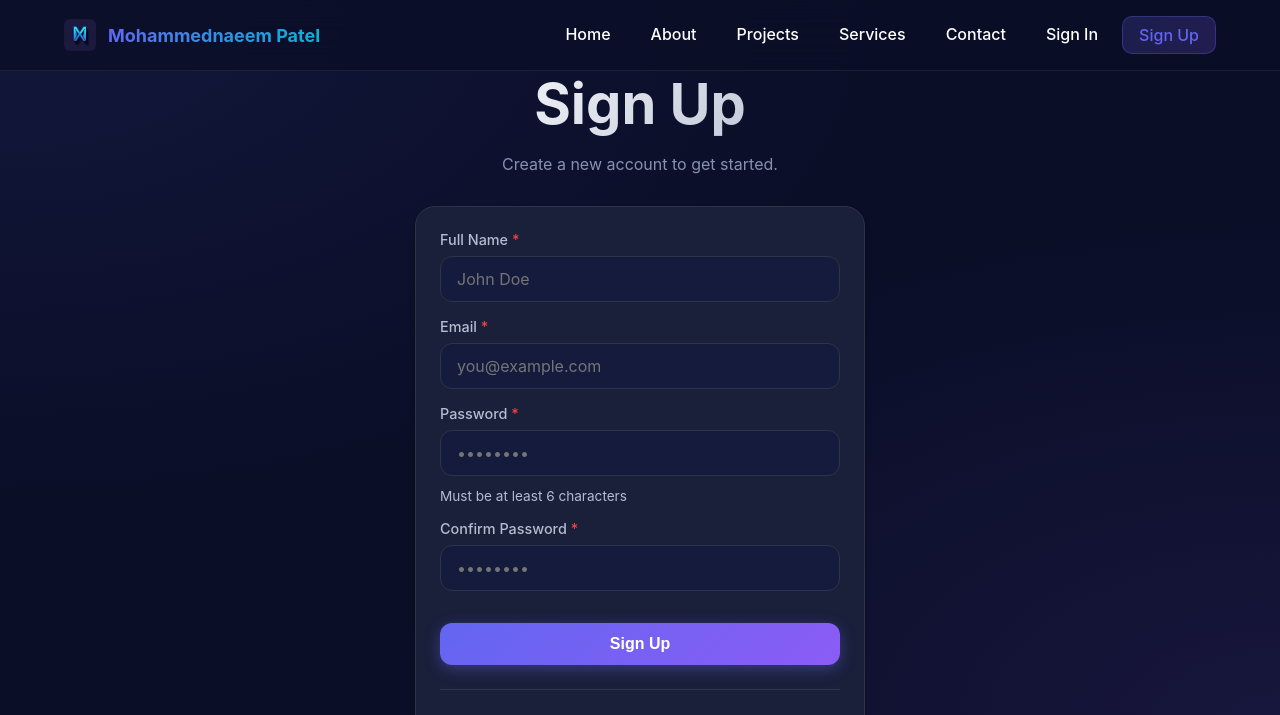
Test case: User Registration Flow › should display error when passwords do not match
Type "Test User" into the field named "name" at [640, 279], box [440,256,840,302]
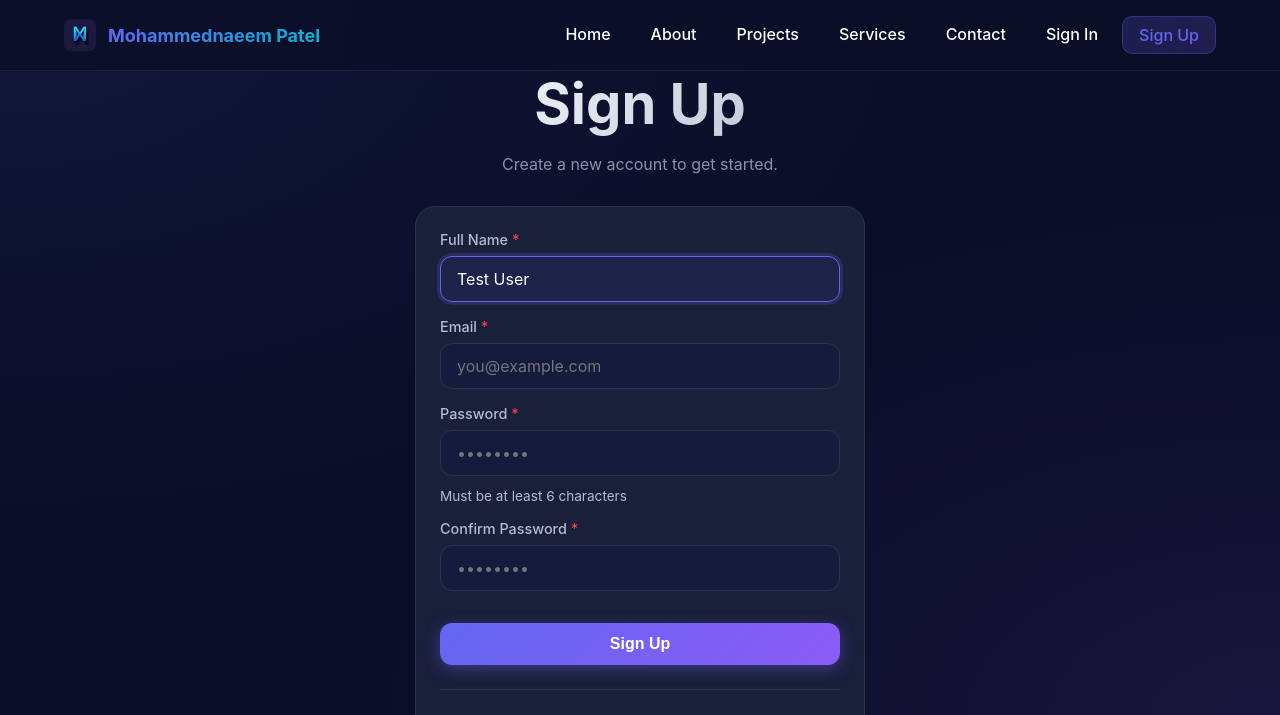
Type "test@example.com" into the field named "email" at [640, 366], box [440,343,840,389]
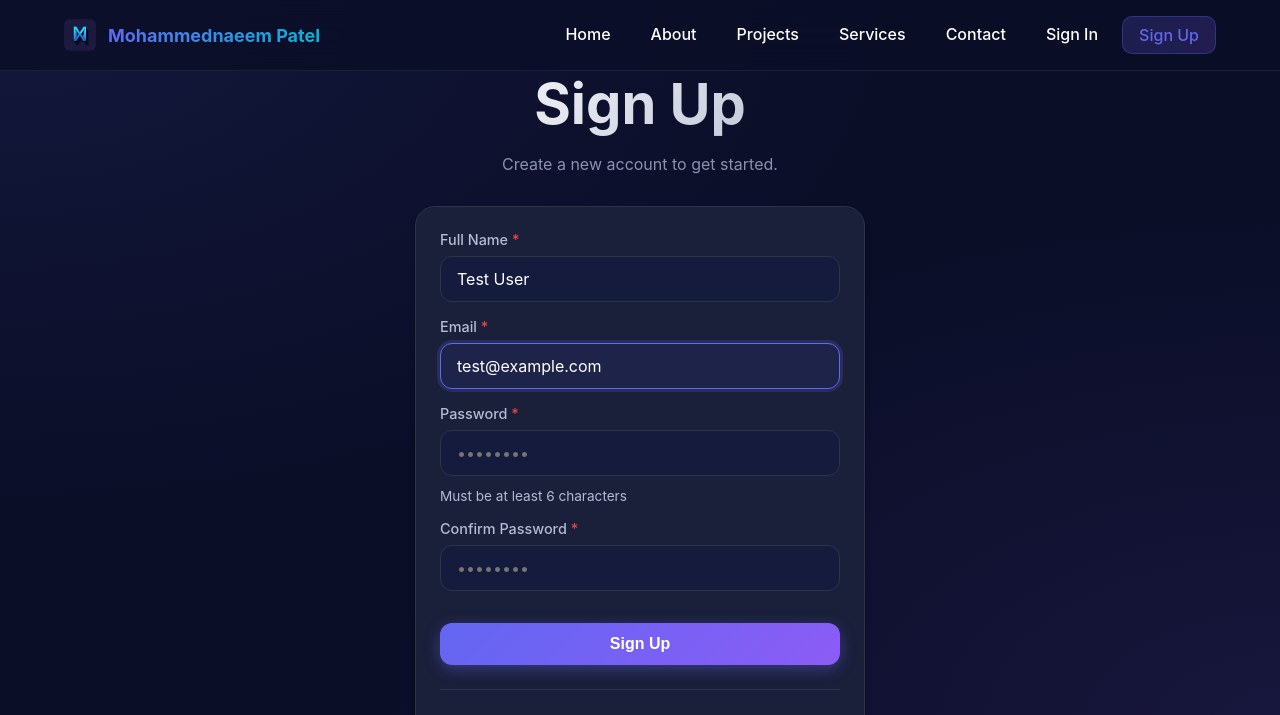
Type "password123" into the password field named "password" at [640, 453], box [440,430,840,476]
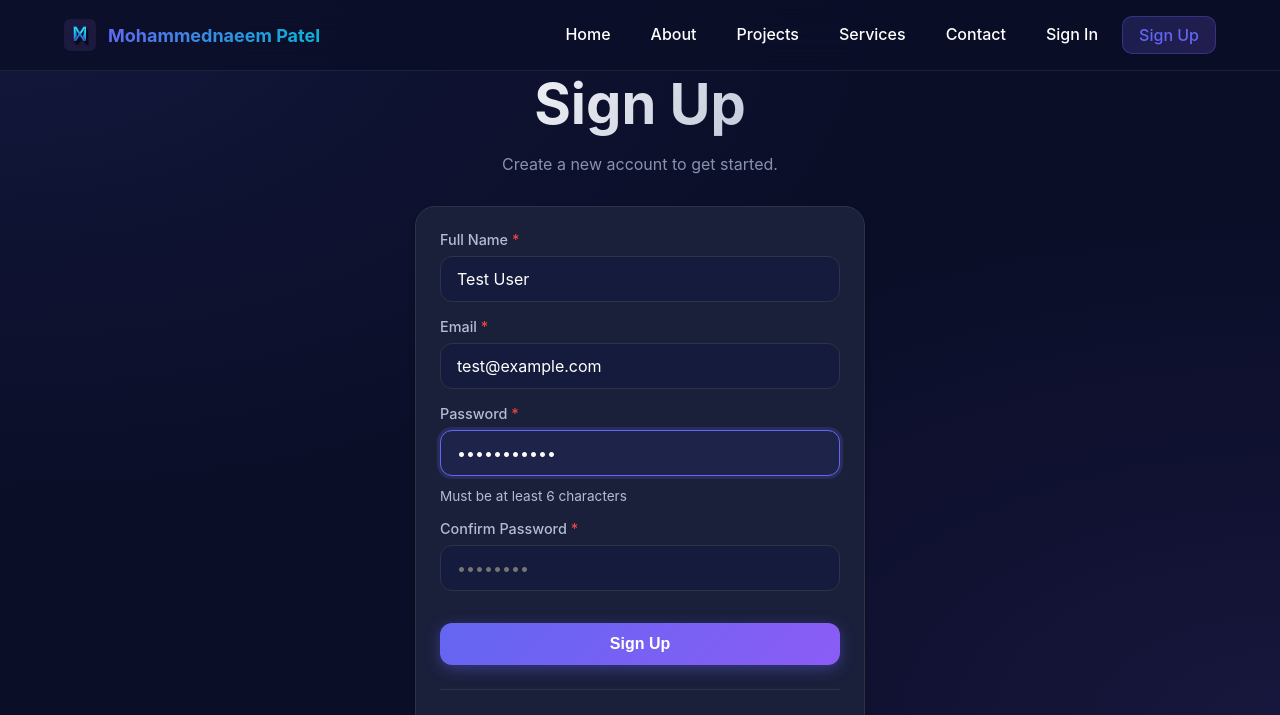
Type "different123" into the password field named "confirmPassword" at [640, 568], box [440,545,840,591]
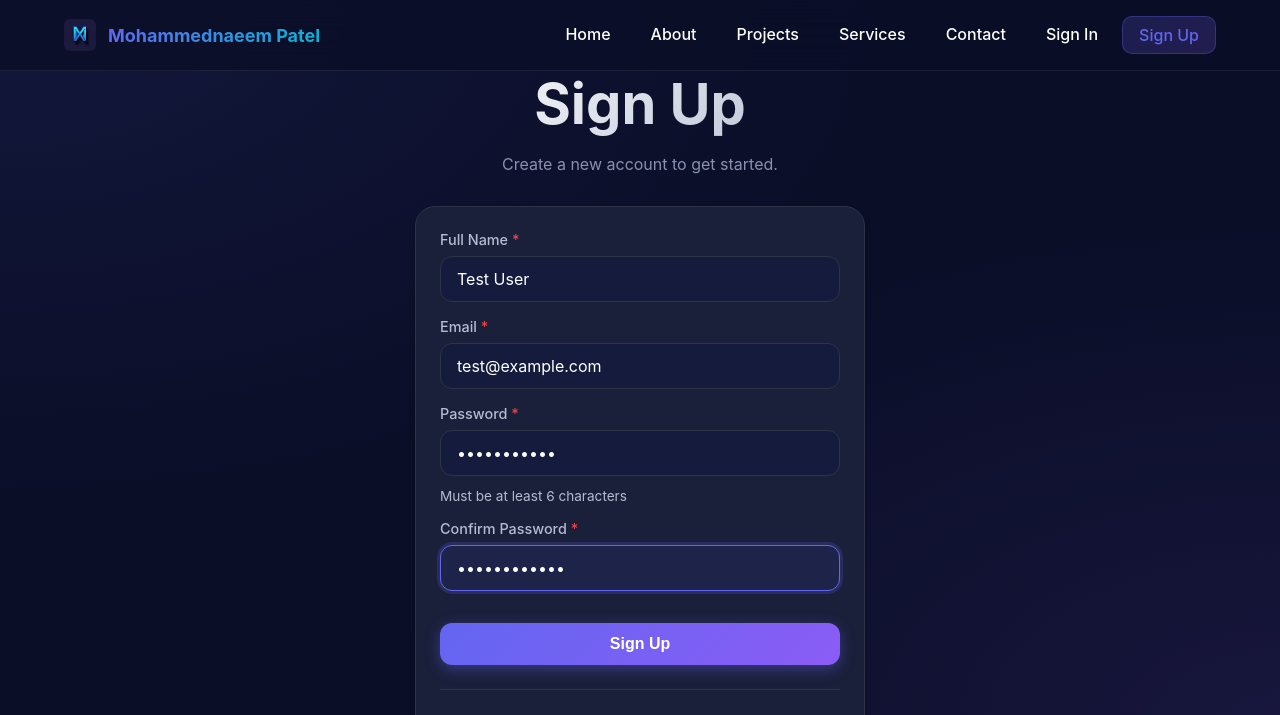
Click the submit button at [640, 644], box [440,623,840,665]
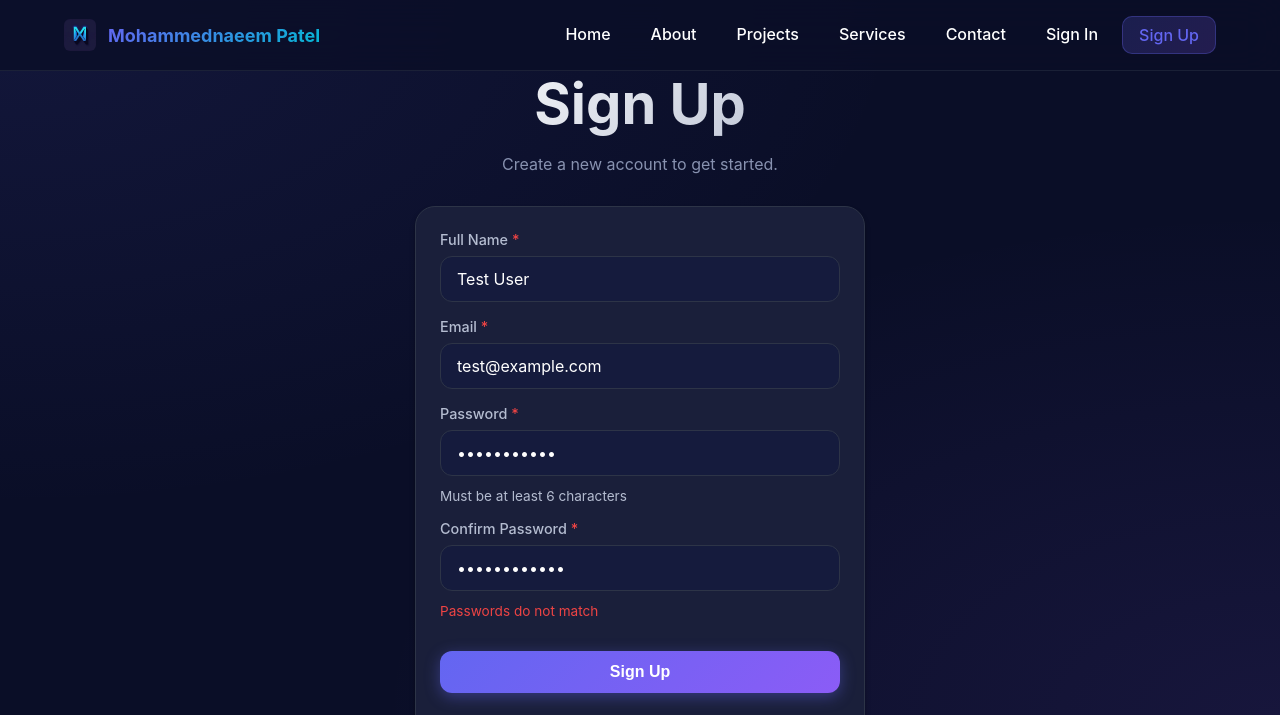
Check: the text "Passwords do not match" is shown, box [440,603,598,619]
